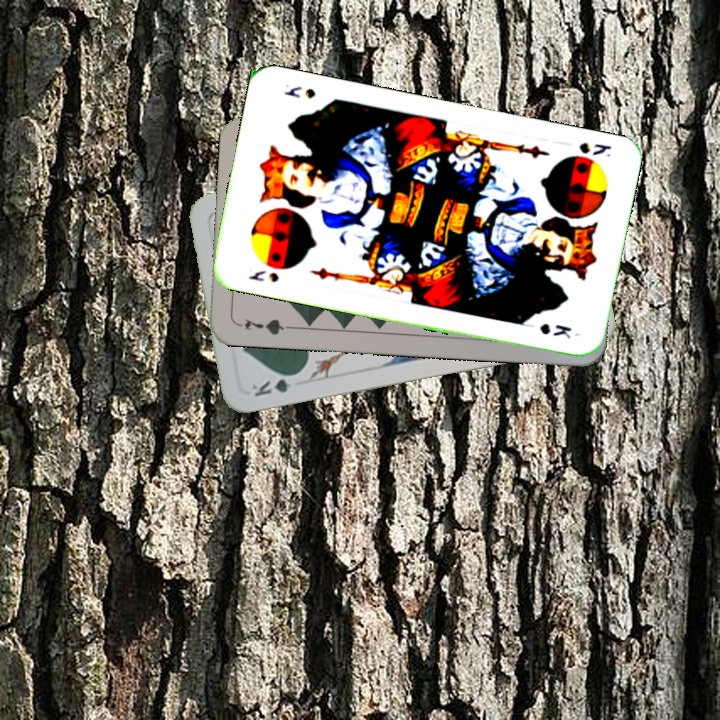G7: (233, 315, 292, 338)
GK: (247, 369, 303, 400)
SK: (575, 138, 614, 160), (244, 266, 282, 285)
